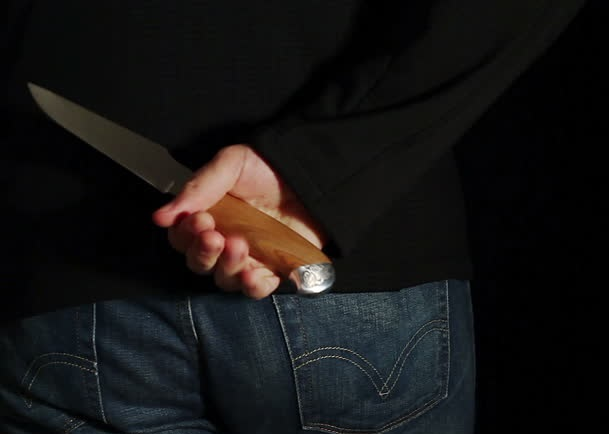knife: (19, 71, 282, 306)
